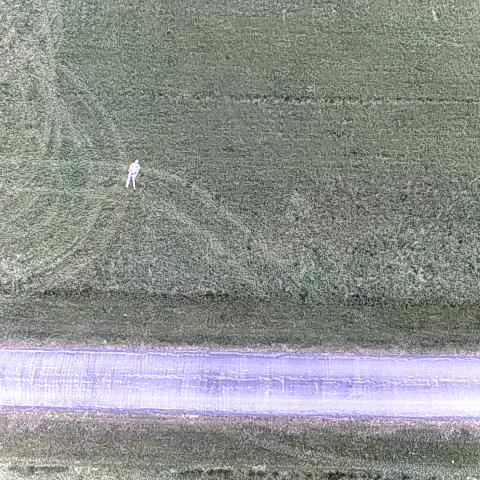person: (124, 158, 141, 190)
